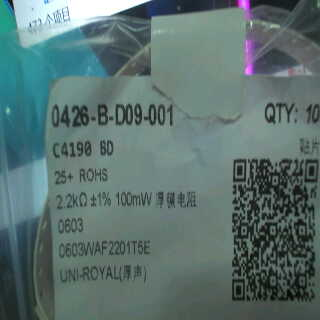2.2kR: (55, 191, 90, 212)
